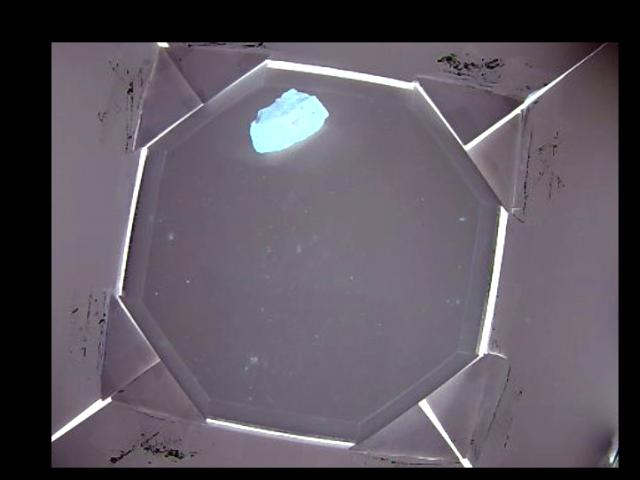Brisk: (249, 85, 324, 152)
